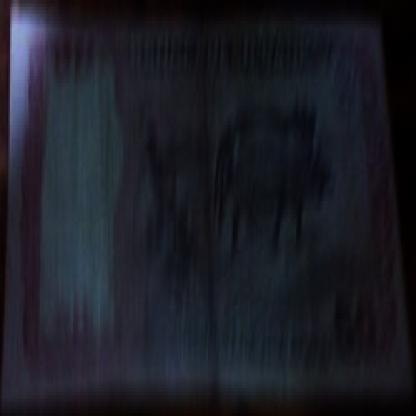Fifty taka: (323, 291, 383, 382), (48, 28, 90, 100)
